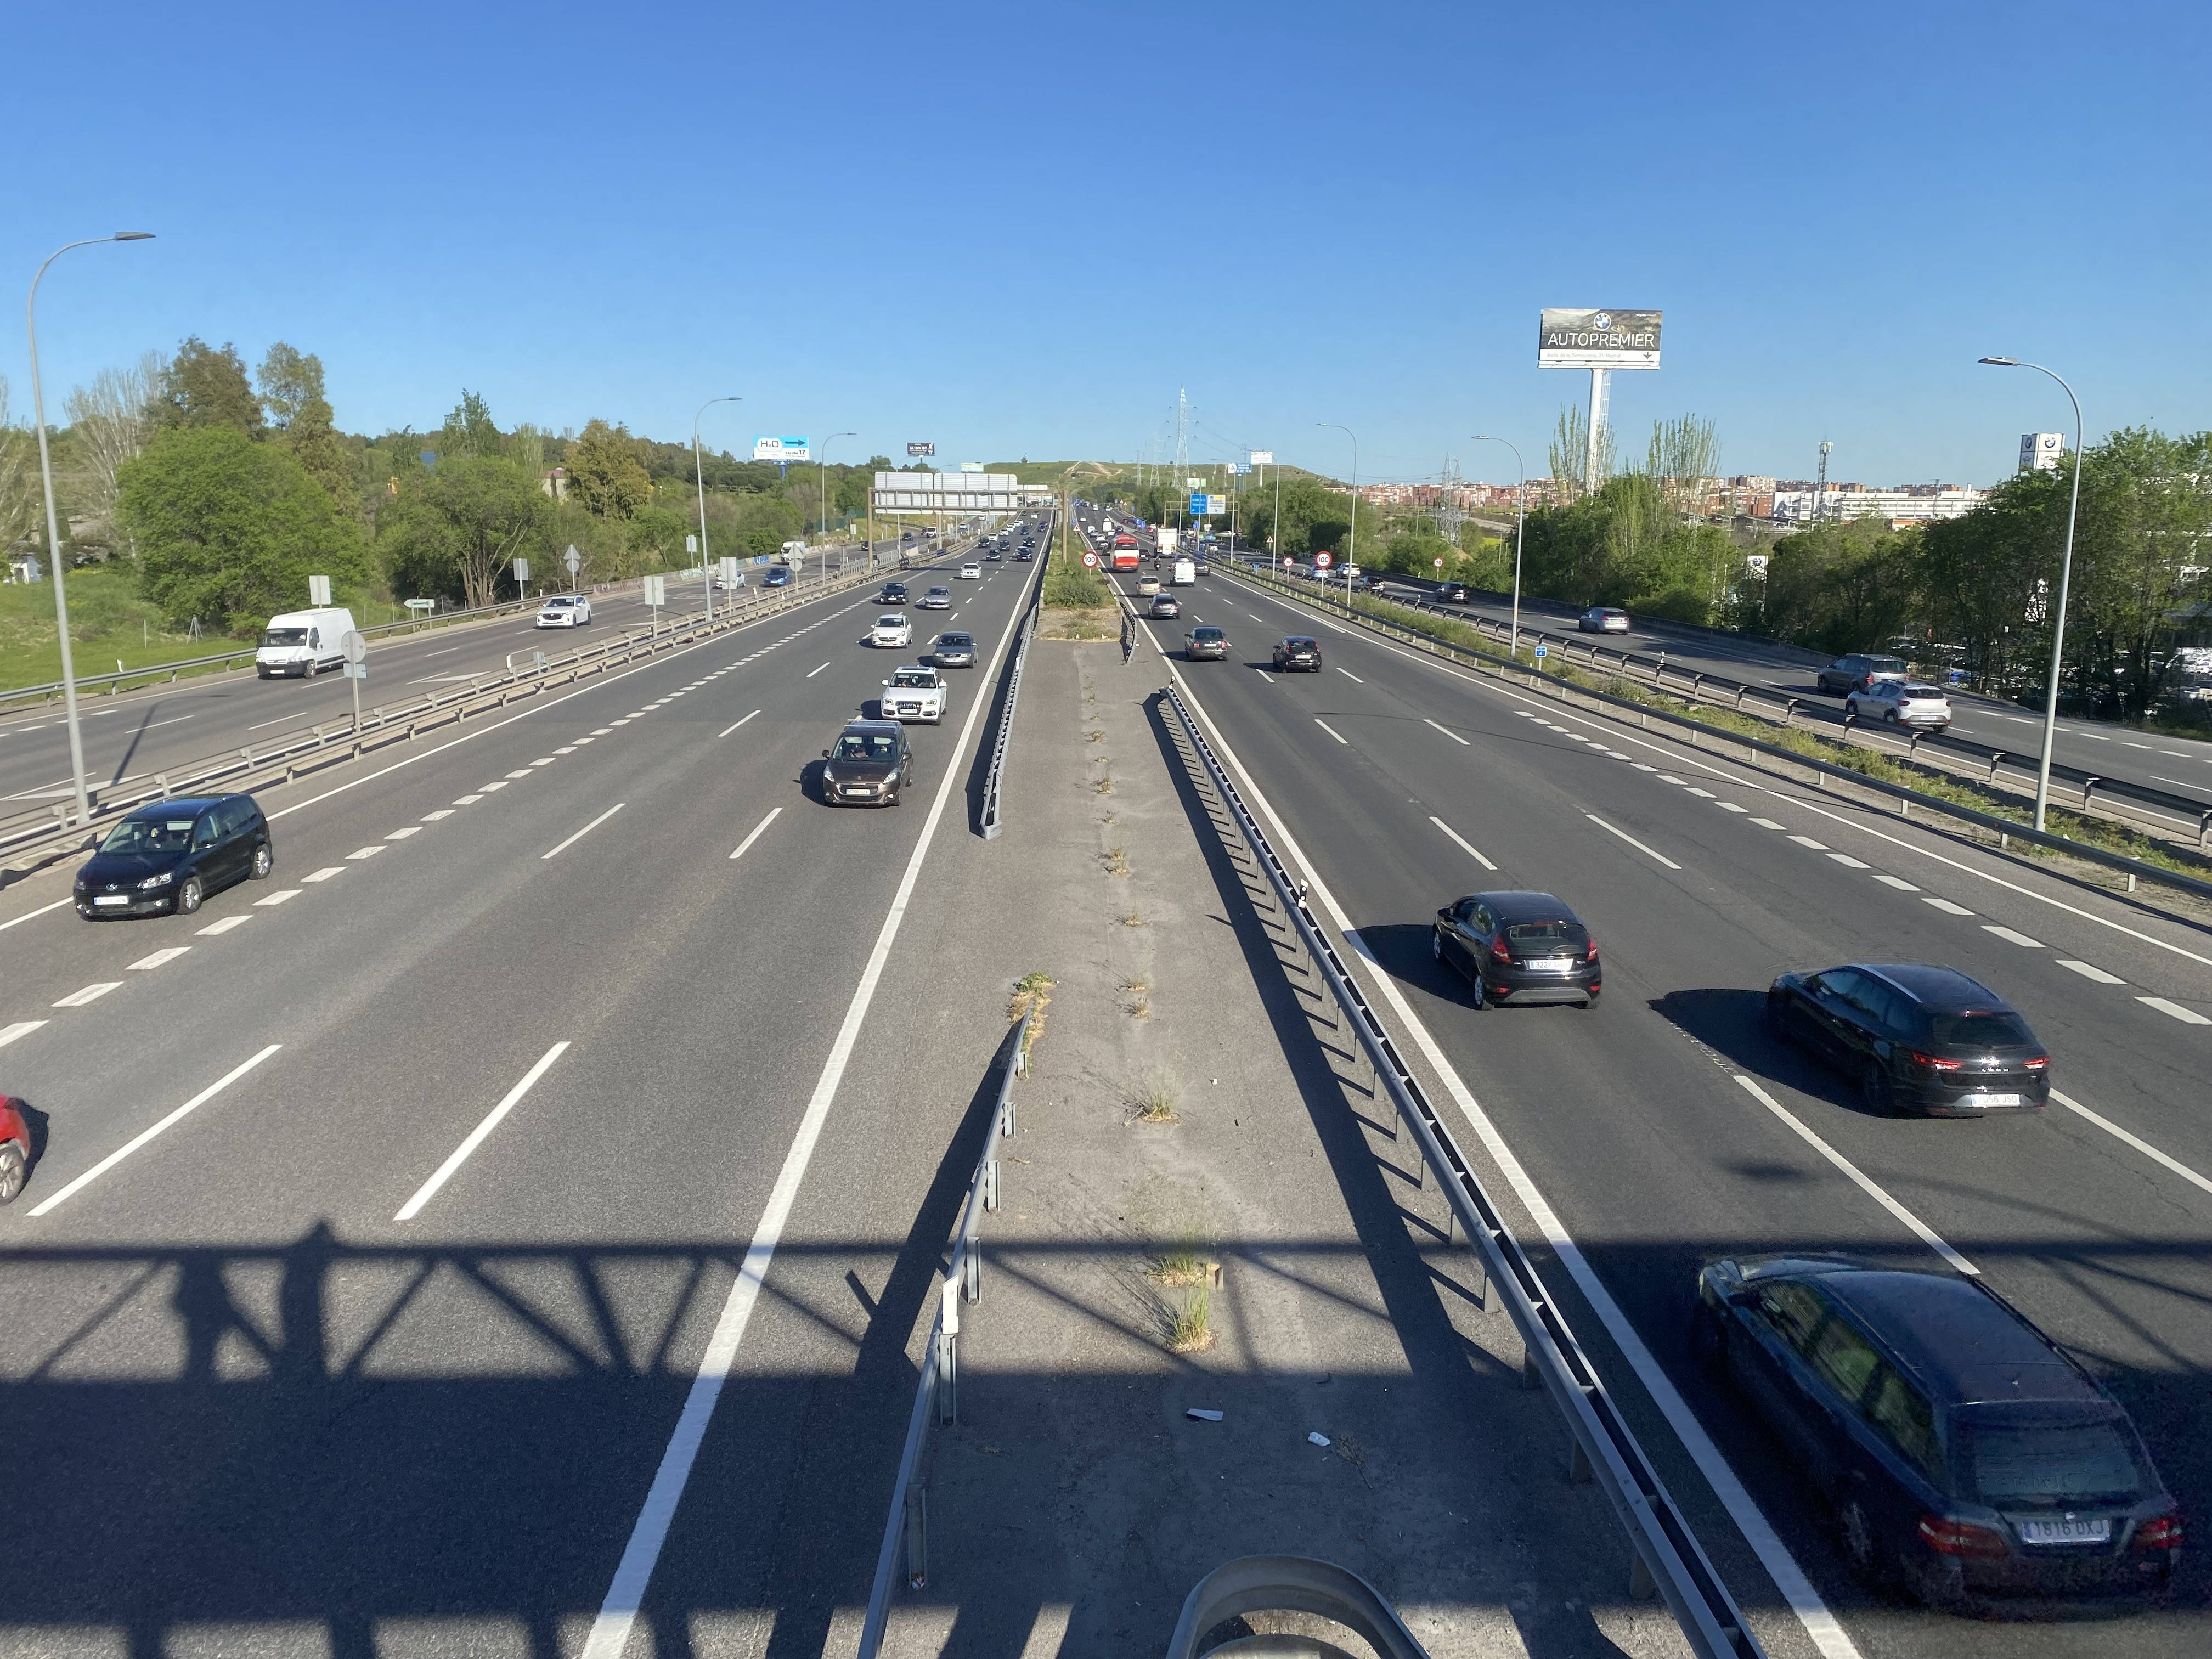cars: (1695, 1255, 2182, 1605), (1768, 964, 2050, 1115), (73, 795, 272, 918), (1432, 890, 1601, 1009), (822, 720, 911, 805), (1846, 680, 1951, 730), (1817, 653, 1905, 697), (881, 666, 946, 723), (920, 631, 977, 667), (536, 594, 592, 629), (1271, 636, 1322, 673), (860, 613, 911, 648), (1183, 626, 1230, 660), (1578, 608, 1629, 633), (1148, 592, 1181, 619), (761, 563, 794, 587), (916, 586, 951, 608), (876, 580, 907, 605), (1437, 580, 1467, 603), (984, 540, 1007, 561), (1136, 580, 1162, 596), (958, 563, 981, 579), (1014, 544, 1033, 561)
